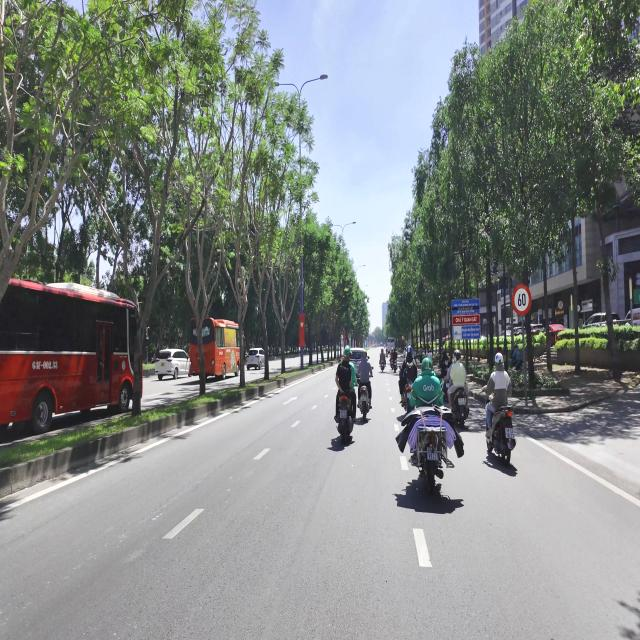car: (155, 349, 190, 380), (246, 348, 264, 370)
motorcycle: (402, 407, 463, 493), (486, 407, 515, 464), (450, 387, 469, 428), (338, 394, 353, 444), (359, 384, 370, 420), (380, 360, 385, 371)
